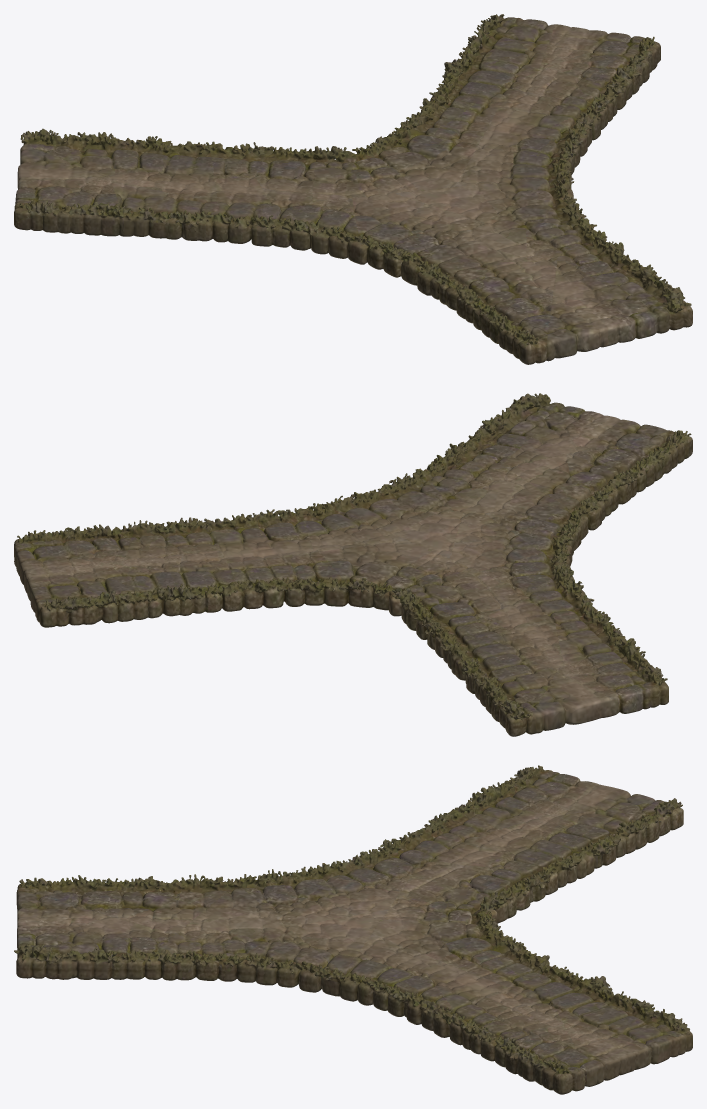
File: Meshy_AI_road_three_way_juncti_0823031938_image-to-3d-texture.glb
3 views of the same model, one above another, from view 1: azimuth 30°, elevation 25°; view 2: azimuth 150°, elevation 25°; view 3: azimuth 270°, elevation 25° (orthographic). The views are drawn at different scales.
Parts seen in each view (by area): view 1: mesh_node; view 2: mesh_node; view 3: mesh_node.
Part boxes in pixels (bbox=[...]): mesh_node: bbox=[14, 14, 692, 364]; mesh_node: bbox=[14, 393, 692, 736]; mesh_node: bbox=[14, 765, 692, 1094].
Size of the model in its own units: 1.9 by 0.0888 by 1.76.
1 material, 1 textured.
